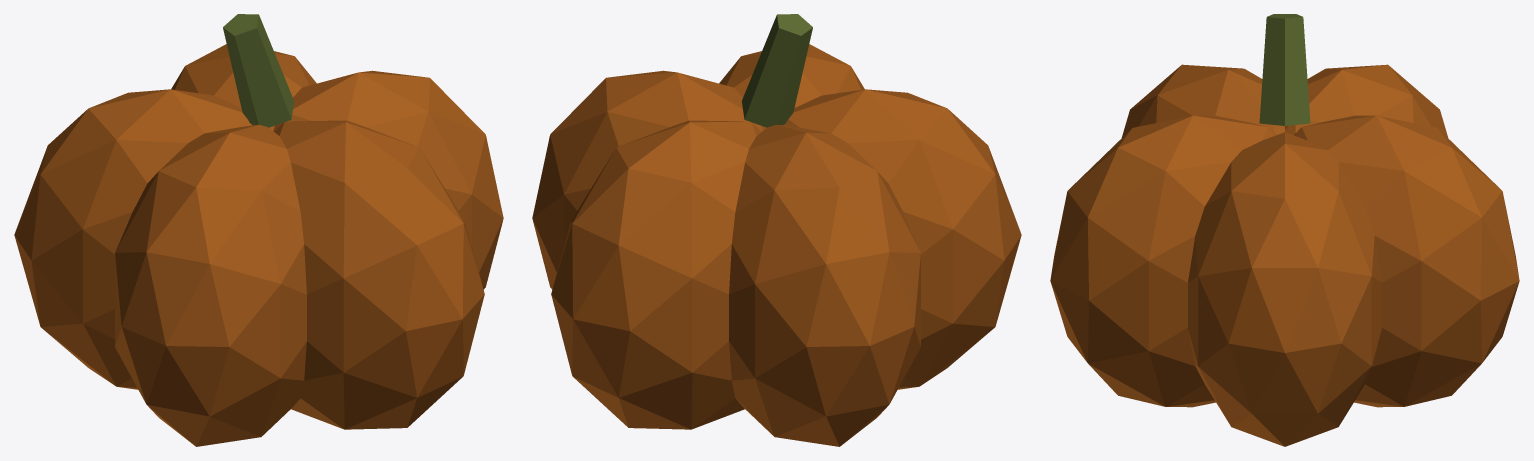
Rendered from big-pumpkin.glb.
3 renders of one model, left to right at view 1: azimuth 30°, elevation 25°; view 2: azimuth 150°, elevation 25°; view 3: azimuth 270°, elevation 25°, orthographic. The views are drawn at different scales.
Parts seen in each view (by area): view 1: props/big-pumpkin; view 2: props/big-pumpkin; view 3: props/big-pumpkin.
Part boxes in pixels (box(x1,y1,x2,y2)): props/big-pumpkin: box(14, 14, 503, 446); props/big-pumpkin: box(532, 14, 1021, 446); props/big-pumpkin: box(1050, 14, 1519, 446).
Bounding box in the file's own units: 0.6881 × 0.6094 × 0.7.
